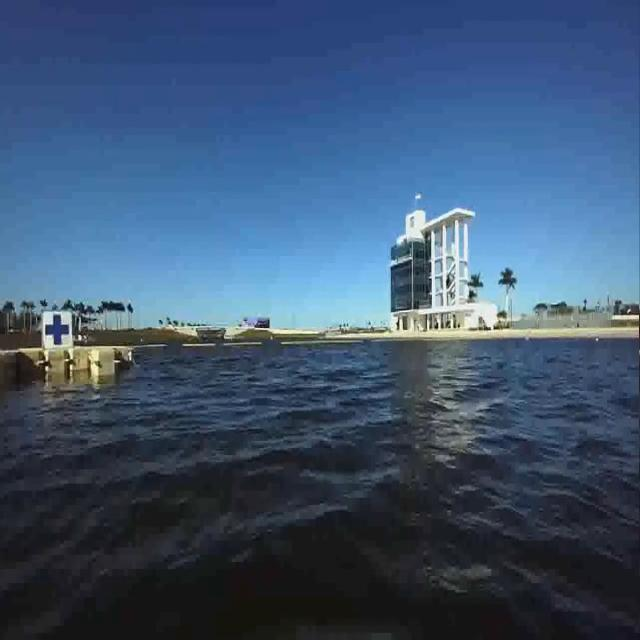blue-cross: (42, 309, 75, 353)
